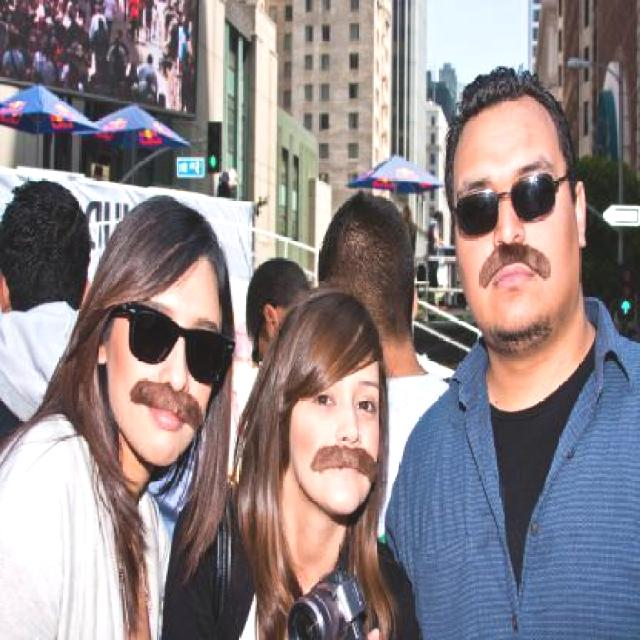face_nomask: (455, 156, 562, 306), (114, 299, 223, 435), (289, 378, 385, 490)
glasses: (118, 303, 240, 388), (448, 170, 568, 238)
head_nohelmet: (447, 56, 578, 138), (112, 207, 236, 281), (284, 298, 384, 373), (320, 190, 408, 250), (0, 187, 93, 241)
person: (396, 43, 639, 640), (0, 191, 233, 640), (218, 289, 410, 640)
